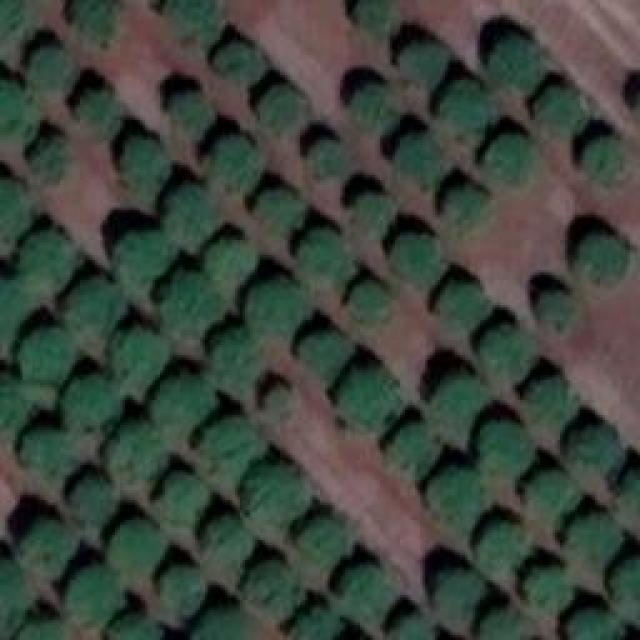Tree: (163, 275, 226, 343), (200, 418, 263, 483), (245, 465, 310, 523), (20, 232, 75, 300), (343, 370, 406, 428), (245, 280, 310, 335), (112, 233, 170, 293), (440, 83, 498, 143), (115, 333, 168, 398), (428, 470, 481, 535), (67, 277, 125, 335), (105, 422, 163, 480), (65, 567, 123, 625), (242, 560, 300, 618), (300, 230, 353, 293), (155, 378, 215, 431), (478, 423, 533, 478), (165, 185, 215, 245), (430, 378, 490, 428), (490, 38, 545, 91), (20, 520, 75, 573), (392, 135, 450, 183), (20, 330, 75, 380), (343, 565, 393, 620), (68, 378, 121, 428), (570, 518, 623, 568), (215, 328, 263, 383), (110, 520, 165, 568), (485, 137, 538, 185), (480, 328, 528, 381), (298, 520, 351, 568), (527, 378, 575, 431), (570, 427, 623, 475), (23, 433, 73, 483), (393, 235, 443, 285), (158, 475, 208, 525), (123, 138, 163, 198), (390, 423, 438, 473), (535, 88, 588, 131), (215, 138, 260, 188), (253, 190, 303, 235), (205, 518, 250, 568), (0, 563, 30, 638), (352, 88, 400, 133), (205, 238, 253, 283), (258, 88, 308, 131), (300, 333, 350, 376), (528, 475, 578, 518), (167, 0, 217, 42), (27, 48, 75, 91), (577, 238, 625, 281), (585, 140, 628, 188), (0, 180, 30, 248), (440, 283, 485, 328), (480, 525, 525, 570), (213, 45, 266, 83), (170, 93, 213, 138), (0, 83, 35, 138), (435, 570, 483, 610), (73, 480, 116, 523), (528, 568, 571, 611), (80, 90, 118, 138), (400, 45, 445, 85), (163, 568, 203, 613), (195, 610, 253, 640), (610, 560, 640, 618), (445, 188, 488, 228), (75, 0, 115, 42), (355, 195, 395, 235), (350, 283, 390, 323), (292, 607, 339, 640), (570, 610, 620, 640), (0, 382, 25, 440), (355, 0, 400, 30), (108, 615, 161, 640), (483, 612, 526, 640), (0, 0, 30, 40), (310, 140, 345, 173), (538, 293, 571, 328), (35, 140, 63, 178), (390, 615, 430, 640), (0, 280, 22, 325), (20, 620, 60, 640), (620, 475, 640, 515), (268, 388, 291, 413)
